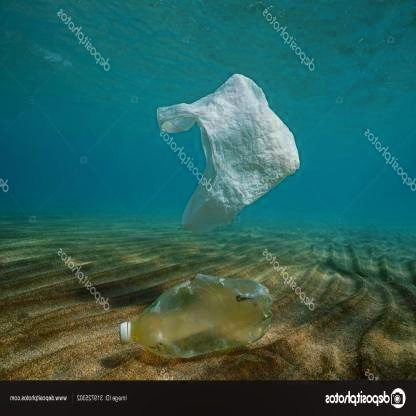pbag: (156, 73, 301, 235)
pbottle: (117, 274, 272, 359)
